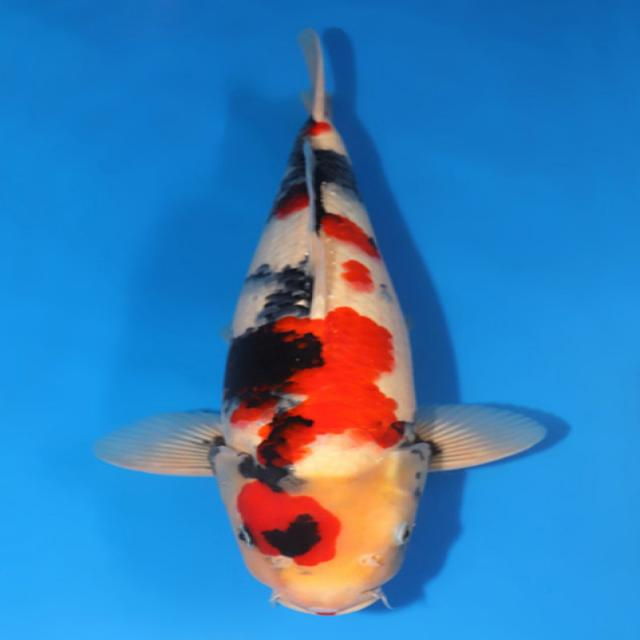Showa: (92, 26, 550, 616)
